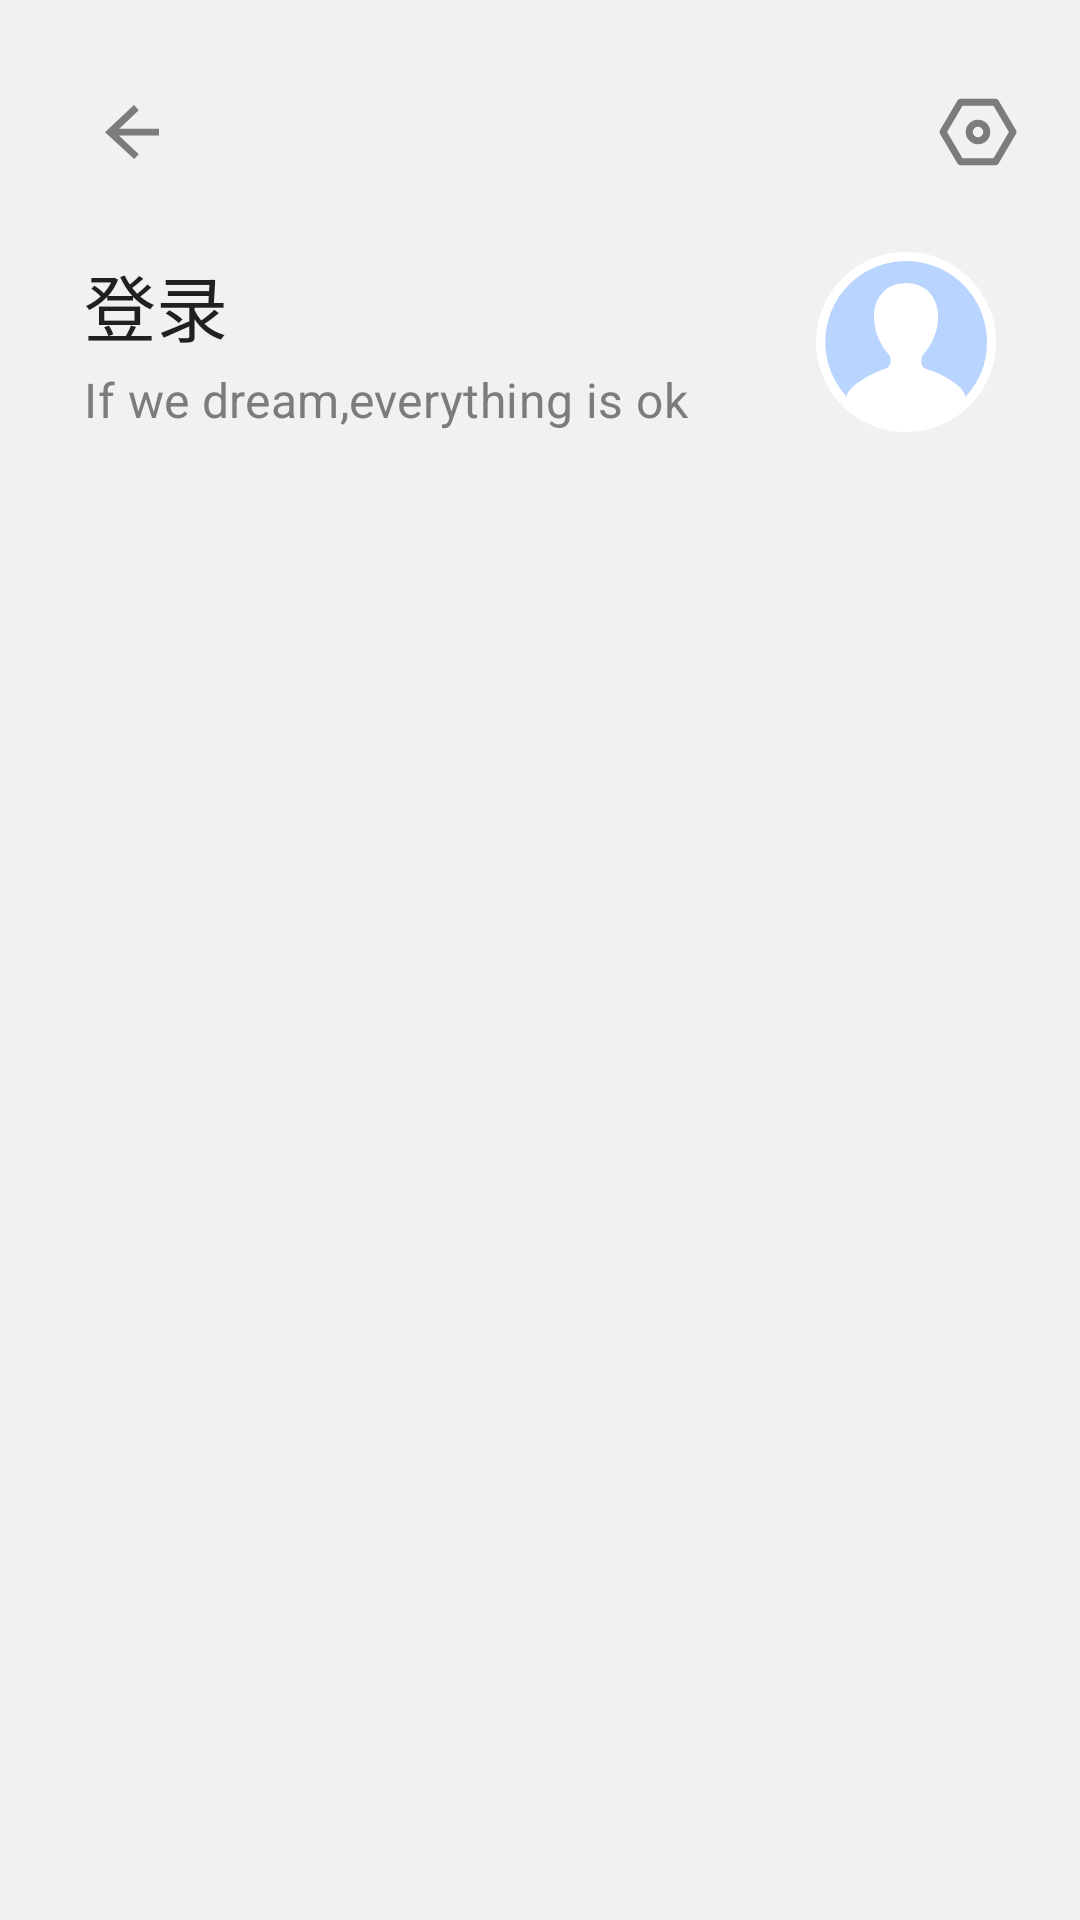

Where to tap for icons on this 1080w x 1920h app screen, as (x,y):
setting one: (978,132)
